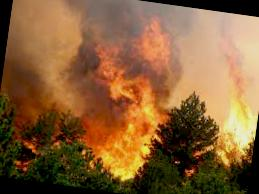fire: (58, 14, 197, 190), (201, 42, 259, 181), (6, 98, 54, 167)
smoke: (3, 0, 259, 110)
